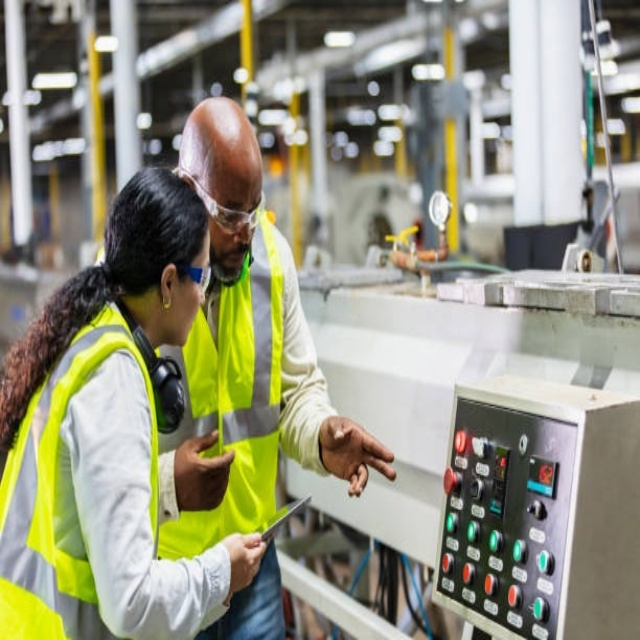Gafas: (185, 167, 266, 235), (172, 262, 212, 293)
Sin_guantes: (318, 414, 397, 494), (173, 428, 238, 515), (220, 531, 269, 602)
Sin_mascara: (216, 242, 250, 290), (170, 306, 204, 351)
